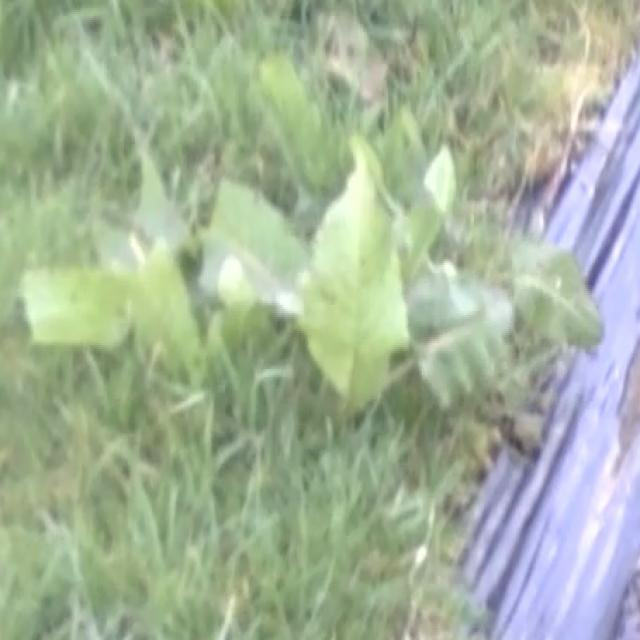organic waste: (17, 63, 616, 455)
